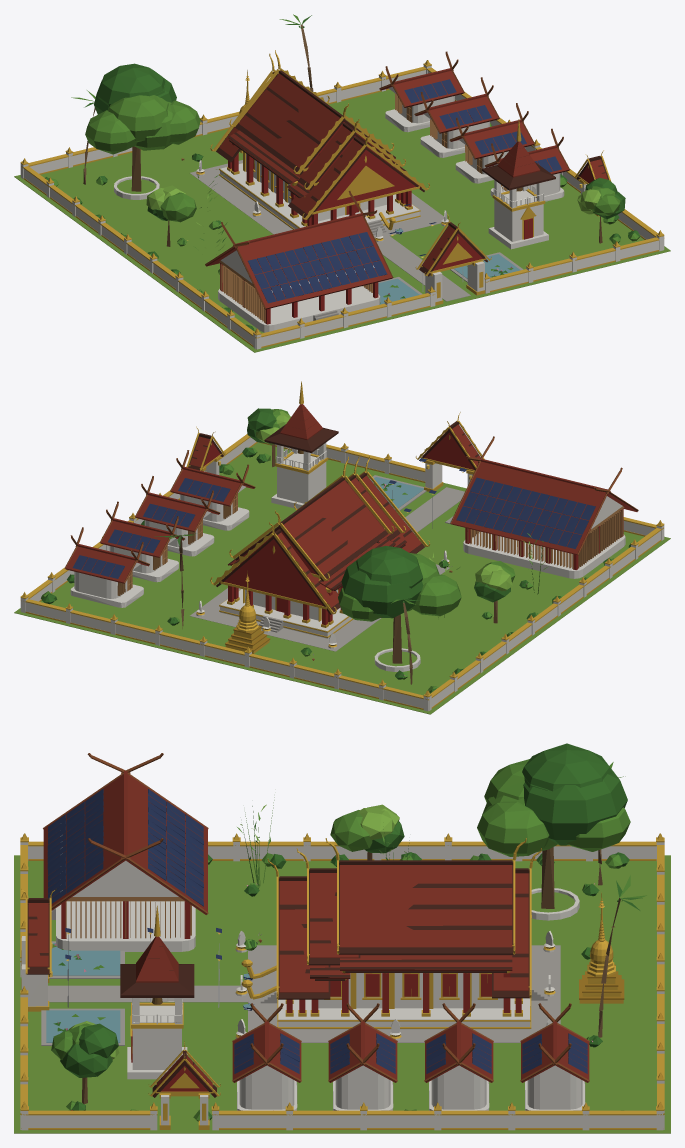
The model's file is temple_2.glb.
3 renders of one model, top to bottom at view 1: azimuth 30°, elevation 25°; view 2: azimuth 150°, elevation 25°; view 3: azimuth 270°, elevation 25°, orthographic. The views are drawn at different scales.
Parts seen in each view (by area): view 1: body; view 2: body; view 3: body.
Part boxes in pixels (left/top/right/bottom): body: left=14, top=14, right=670, bottom=352; body: left=14, top=381, right=670, bottom=714; body: left=14, top=743, right=670, bottom=1133.
Size of the model in its own units: 47.9 by 13.16 by 47.9.
